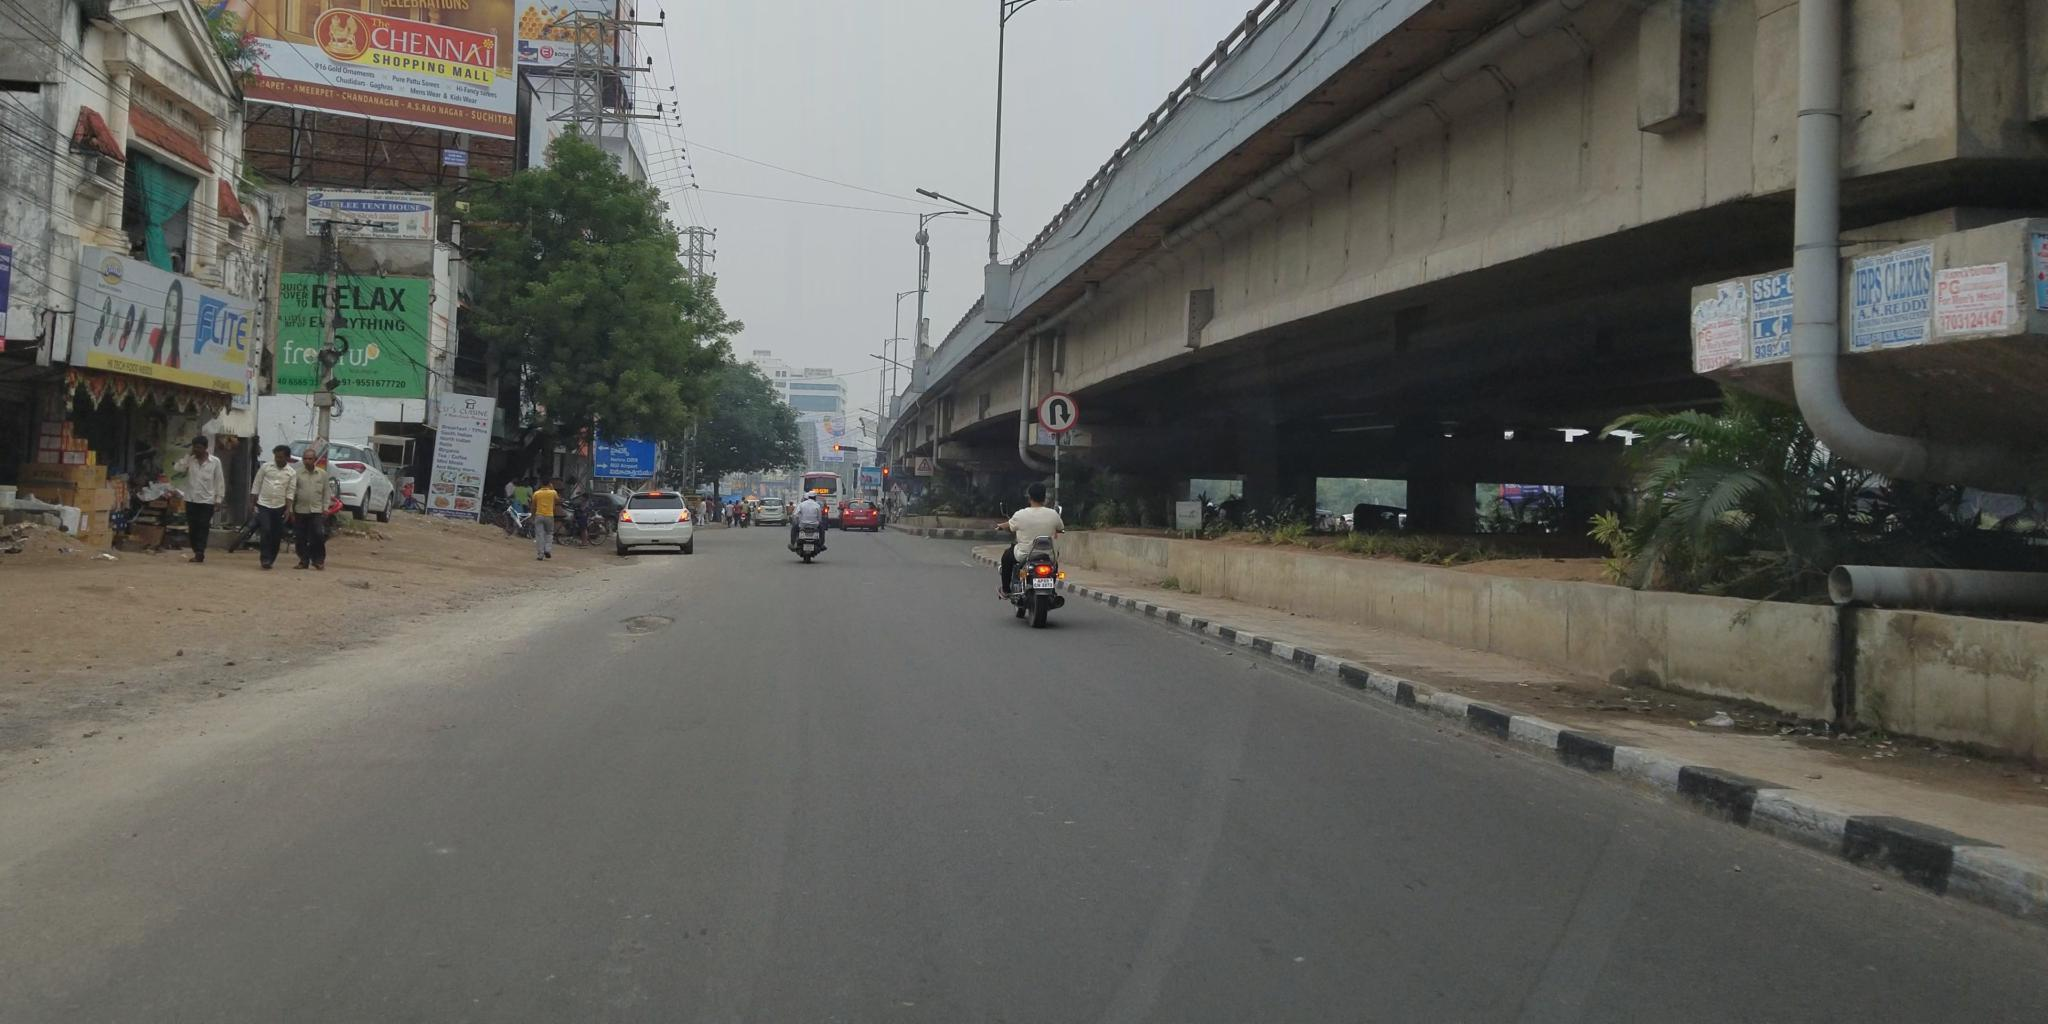off: (0, 0, 1813, 943)
